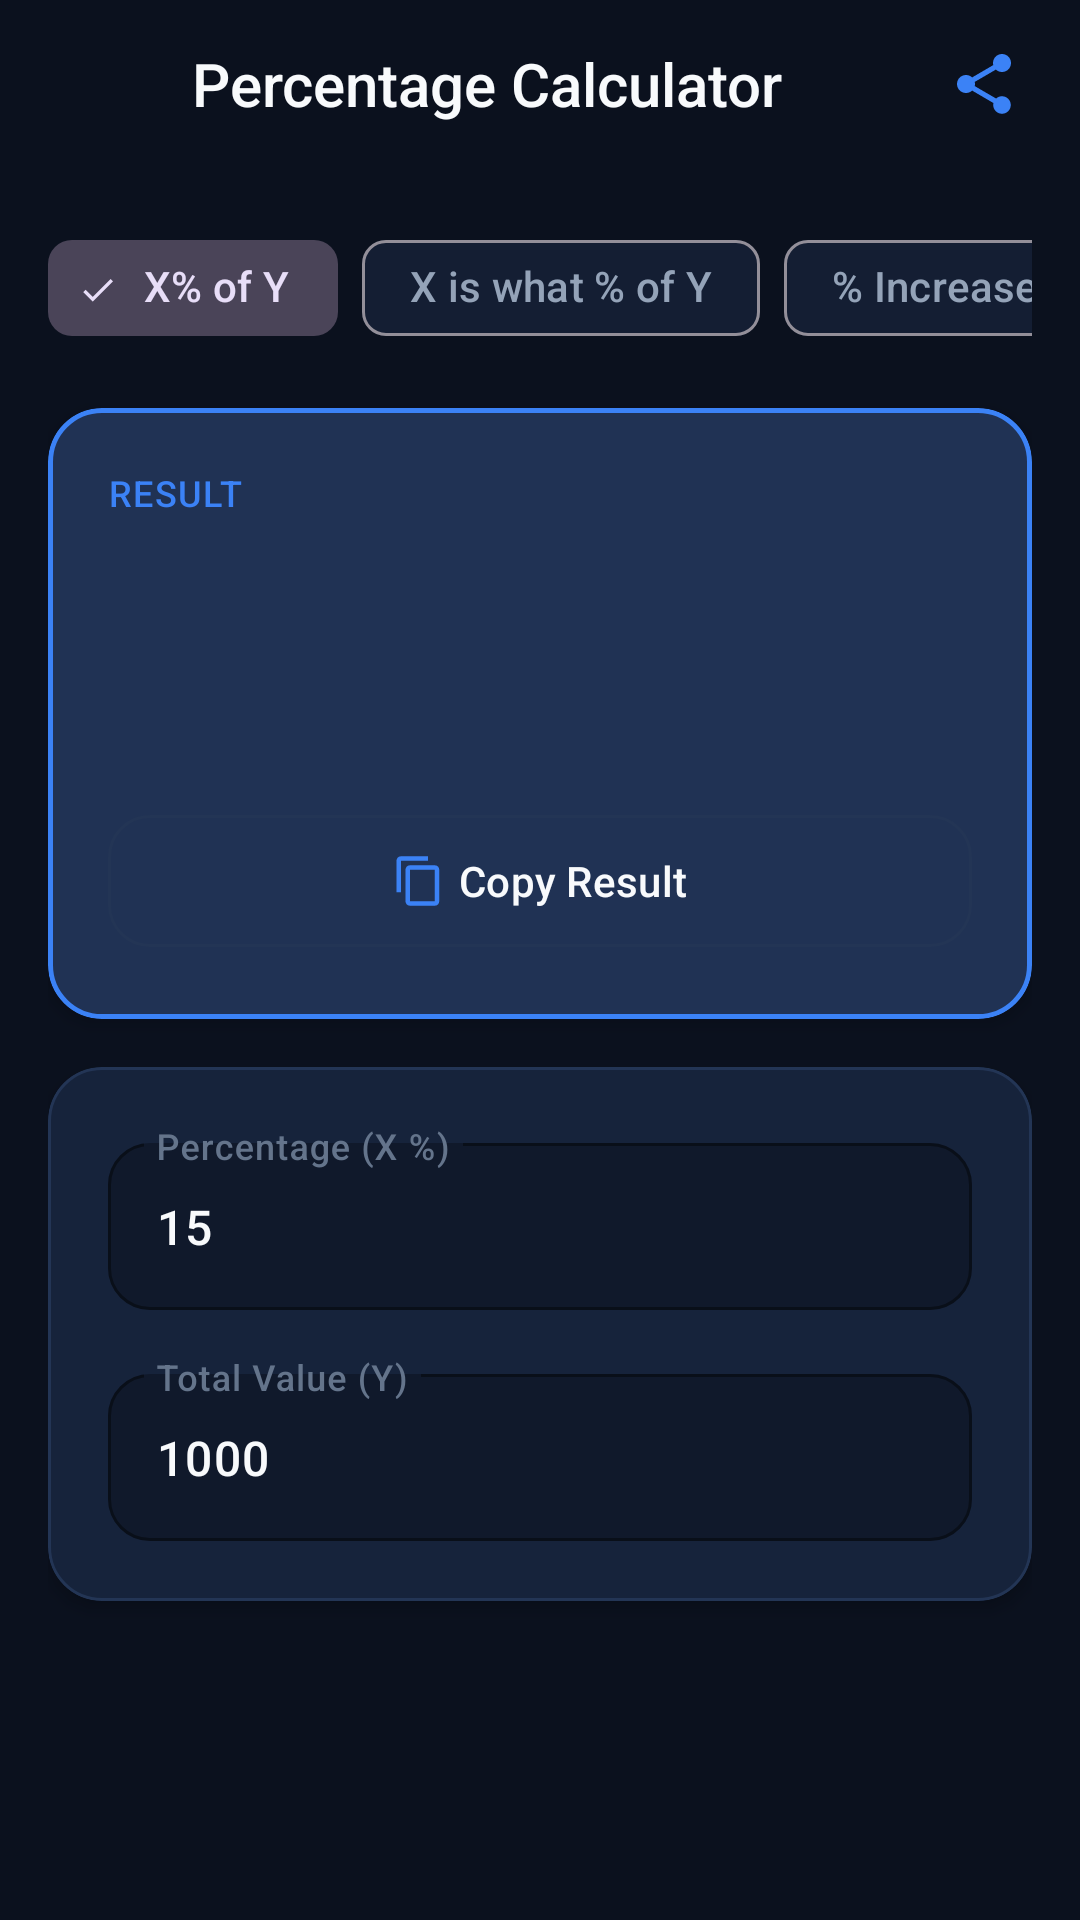

Where icons sit on this 1080w x 1920h app screen, as bbox=(x1, y1, x2, y2):
Share: bbox=(957, 54, 1011, 114)
